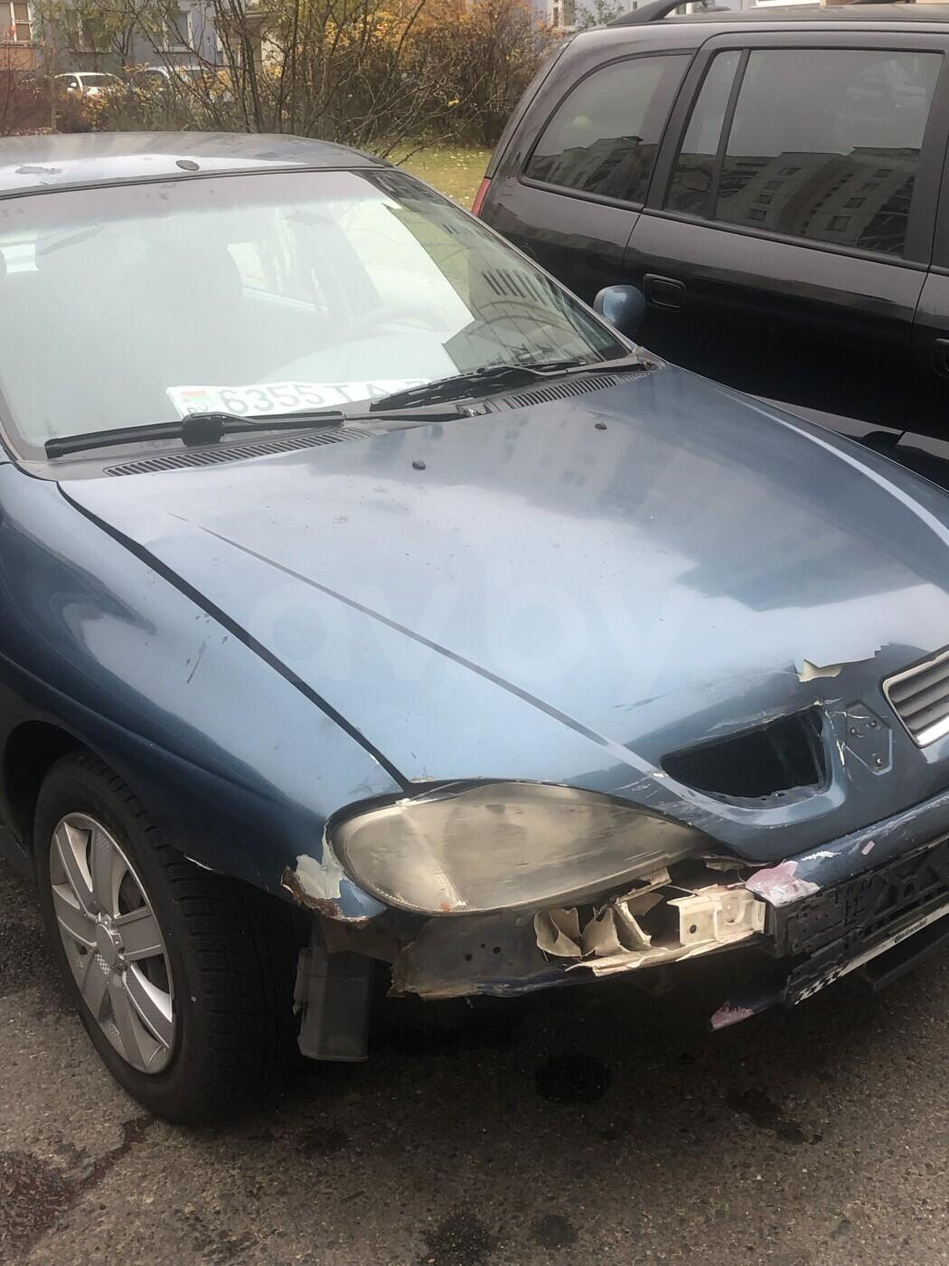Megane_1999-2003: (0, 118, 949, 1121)
